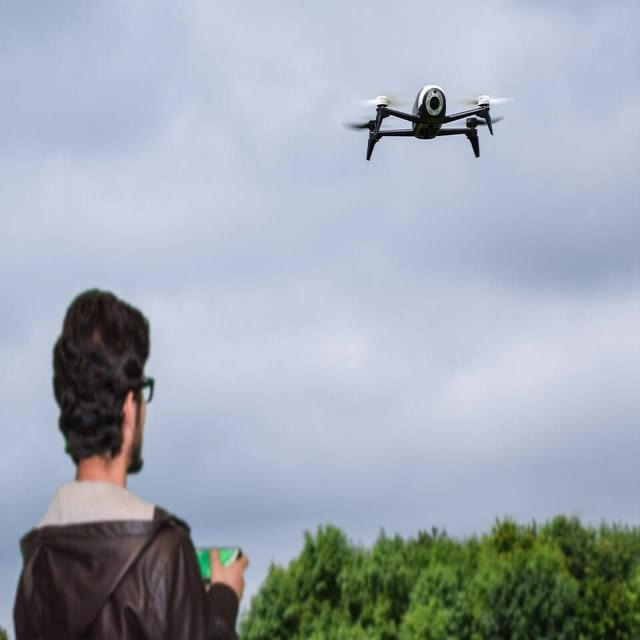drone: (336, 77, 514, 166)
